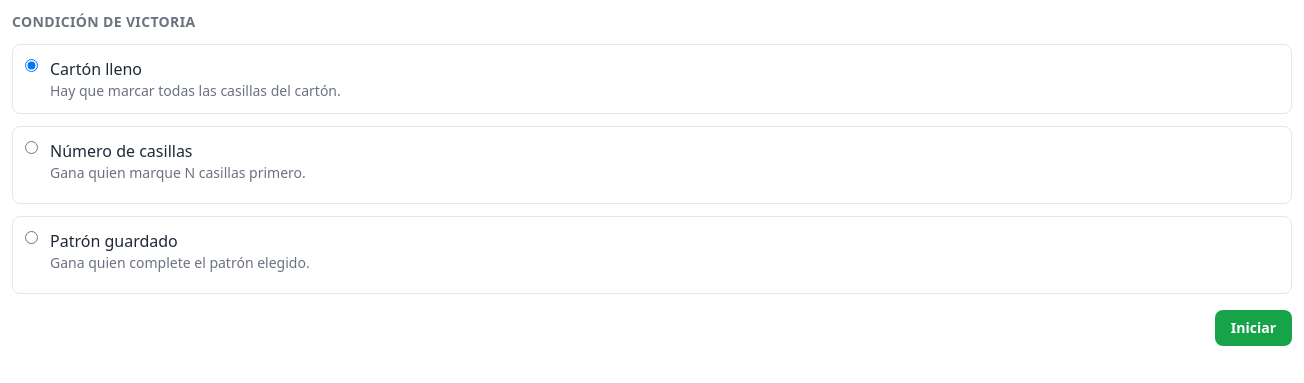
Test: SelectorCondicion › flujo clásico (sin onElegirPatron) › deshabilita el botón principal cuando no hay patrones en modo patrón
This screenshot has width=1304, height=383.
Click the radio button labelled "Patrón guardado Gana quien complete el patrón elegido.": [32, 238] box [25,231,38,244]
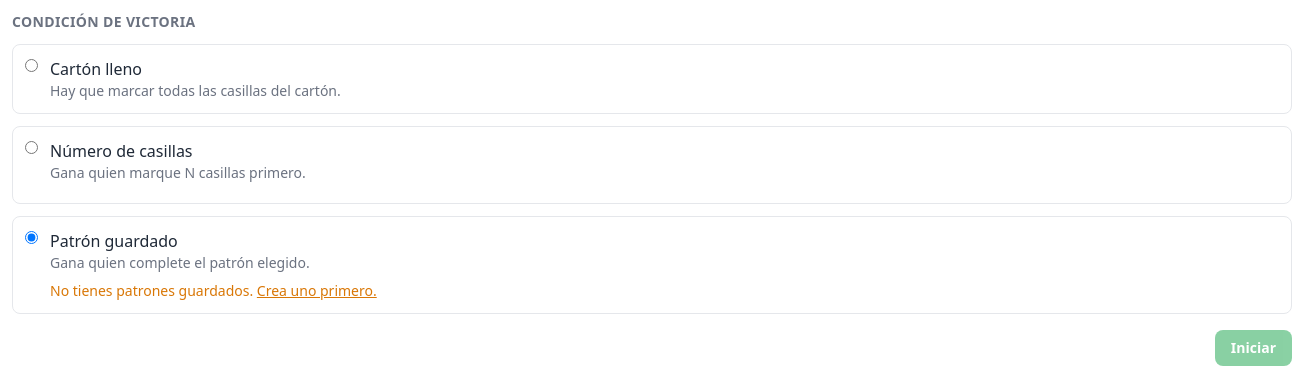
Expected: the button "Iniciar" is disabled, [1215,330,1292,366]
